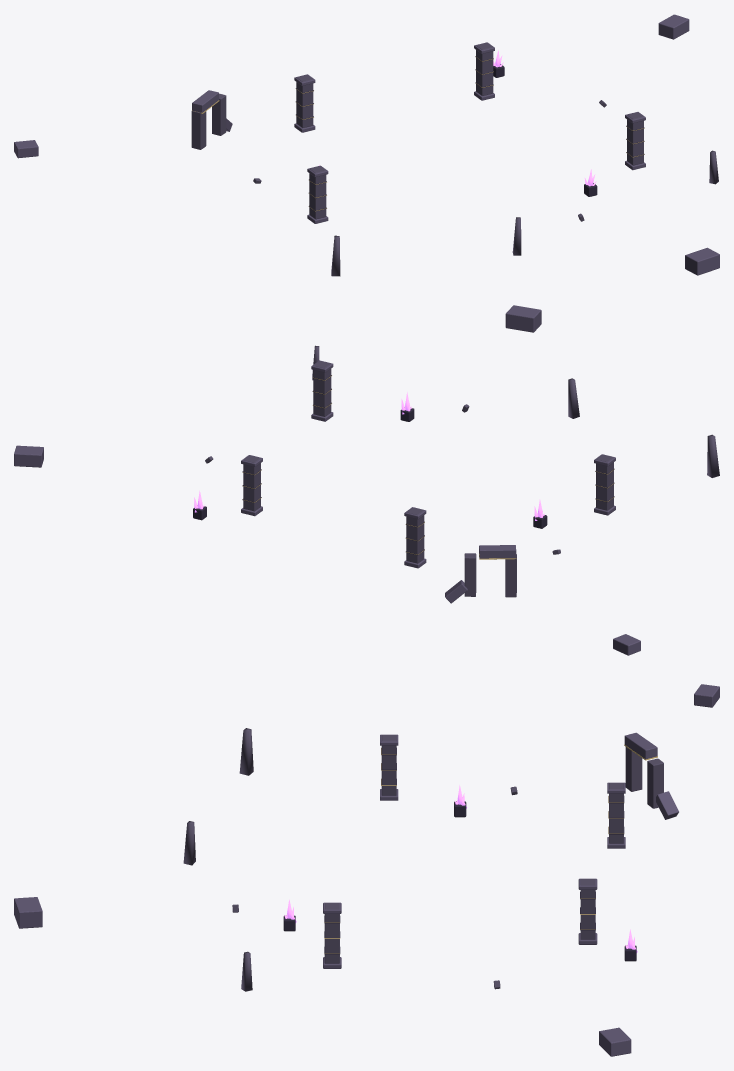
Rendered from props.glb.
3 renders of one model, top to bottom at view 1: azimuth 30°, elevation 25°; view 2: azimuth 150°, elevation 25°; view 3: azimuth 270°, elevation 25°, orthographic. The views are drawn at different scales.
Parts seen in each view (by area): view 1: PillarCShaft, PillarAShaft, PillarDShaft, PillarBShaft, BlockC, BlockA, ArchPostL, ArchPostR; view 2: PillarDShaft, PillarBShaft, PillarAShaft, PillarCShaft, BlockC, BlockA; view 3: PillarAShaft, PillarCShaft, PillarBShaft, PillarDShaft, BlockC, BlockA, ArchPostR, ArchPostL.
Part boxes in pixels (x1,y1,x2,y2): PillarCShaft: (476,42,493,95); PillarAShaft: (309,166,326,219); PillarDShaft: (296,75,313,127); PillarBShaft: (627,112,643,165); BlockC: (685,247,719,275); BlockA: (658,14,689,39); ArchPostL: (191,111,206,149); ArchPostR: (212,93,226,135); PillarDShaft: (406,507,424,563); PillarBShaft: (313,361,331,416); PillarAShaft: (596,454,613,510); PillarCShaft: (243,455,260,511); BlockC: (505,305,541,332); BlockA: (14,445,43,467); PillarAShaft: (381,735,396,795); PillarCShaft: (580,879,595,939); PillarBShaft: (324,903,339,963); PillarDShaft: (609,783,623,843); BlockC: (14,897,42,928); BlockA: (599,1027,631,1056); ArchPostR: (647,758,663,808); ArchPostL: (625,747,642,791).
Size of the model in its own units: 60.45 by 5.07 by 49.69.
